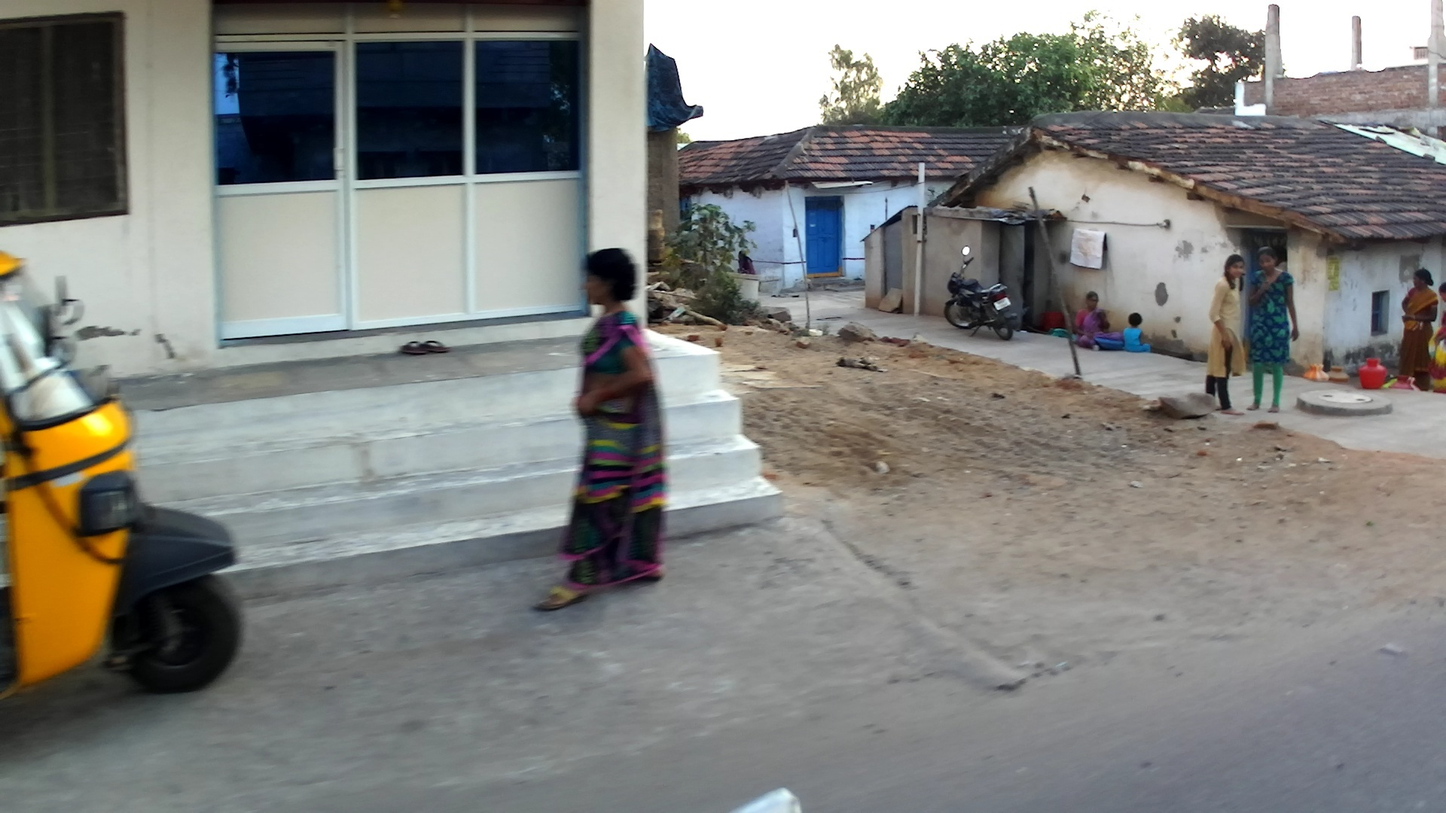autorickshaw: (1, 251, 244, 703)
motorcycle: (943, 245, 1019, 340)
person: (531, 250, 669, 611), (1245, 245, 1300, 413), (1205, 254, 1248, 416), (1397, 269, 1439, 391), (1073, 291, 1124, 351), (1427, 283, 1446, 395), (1121, 311, 1152, 353), (736, 251, 756, 275)
